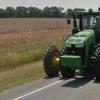Tractor: (34, 11, 100, 75)
